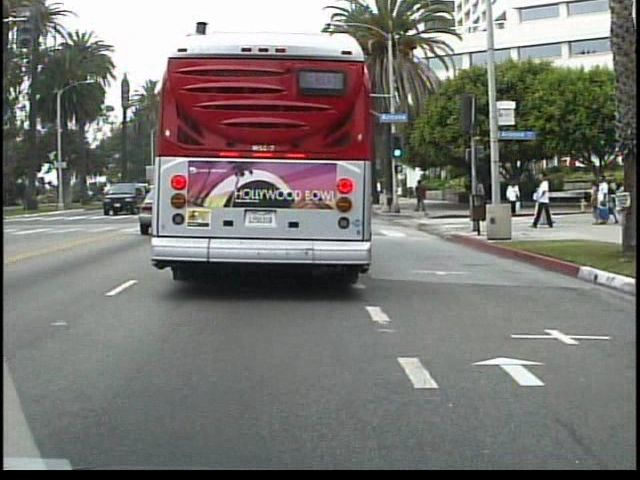person: (534, 168, 556, 228), (473, 172, 490, 216), (414, 177, 432, 217), (505, 178, 526, 203)
